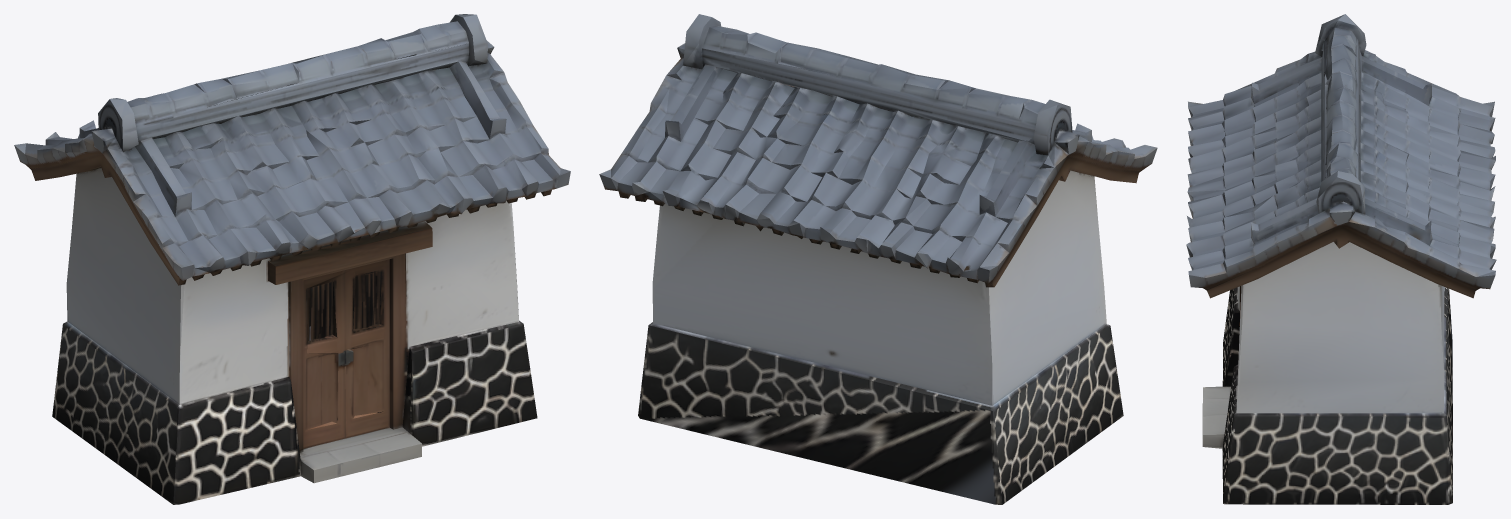
The model's file is storehouse_kura_lod1.glb.
3 renders of one model, left to right at view 1: azimuth 30°, elevation 25°; view 2: azimuth 150°, elevation 25°; view 3: azimuth 270°, elevation 25°, orthographic. The views are drawn at different scales.
Parts seen in each view (by area): view 1: storehouse_kura_lod1; view 2: storehouse_kura_lod1; view 3: storehouse_kura_lod1.
Boxes of the visible parts, x1=… form: storehouse_kura_lod1: x1=14, y1=14, x2=570, y2=504; storehouse_kura_lod1: x1=599, y1=14, x2=1157, y2=504; storehouse_kura_lod1: x1=1186, y1=14, x2=1496, y2=504.
Size of the model in its own units: 7.99 by 7.01 by 6.
Materials: 1 (1 with a texture image).
